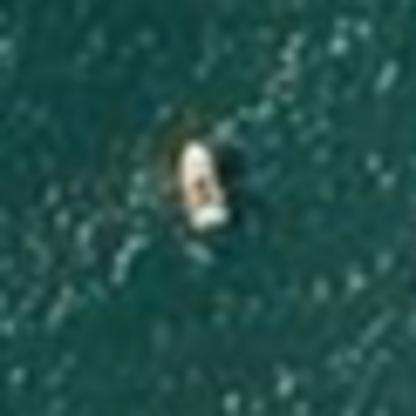ship: (153, 133, 254, 239)
